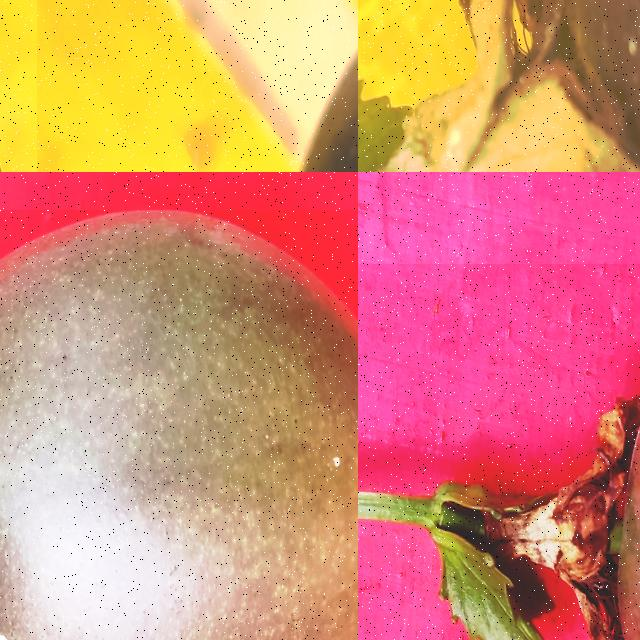Estado-2: (358, 396, 640, 640)
Estado-3: (0, 210, 358, 640)
Estado-5: (358, 0, 640, 172)
